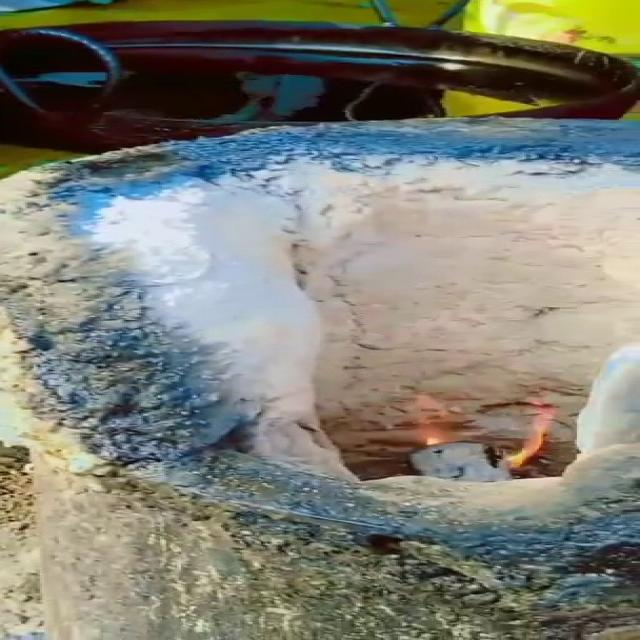Fire: (396, 392, 480, 454), (503, 400, 568, 472)
